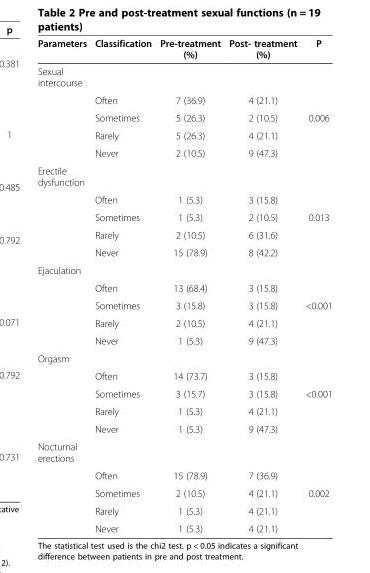table: (36, 37, 331, 533)
table column: (224, 37, 300, 533), (155, 37, 224, 533), (90, 37, 155, 533), (36, 37, 90, 533), (300, 37, 331, 533)
table column header: (36, 37, 331, 62)
table projected row header: (36, 62, 331, 91), (36, 161, 331, 190), (36, 437, 331, 466), (36, 261, 331, 278), (36, 349, 331, 366)
table row: (36, 62, 331, 91), (36, 161, 331, 190), (36, 437, 331, 466), (36, 37, 331, 62), (36, 108, 331, 126), (36, 143, 331, 161), (36, 190, 331, 208), (36, 225, 331, 243), (36, 243, 331, 261), (36, 278, 331, 296), (36, 296, 331, 314), (36, 331, 331, 349), (36, 366, 331, 384), (36, 384, 331, 402), (36, 419, 331, 437), (36, 466, 331, 484), (36, 501, 331, 519), (36, 91, 331, 108), (36, 126, 331, 143), (36, 208, 331, 225), (36, 261, 331, 278), (36, 314, 331, 331), (36, 349, 331, 366), (36, 402, 331, 419), (36, 484, 331, 501), (36, 519, 331, 533)
